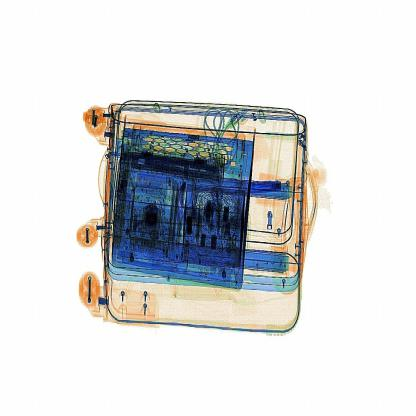knife: (245, 166, 296, 195)
